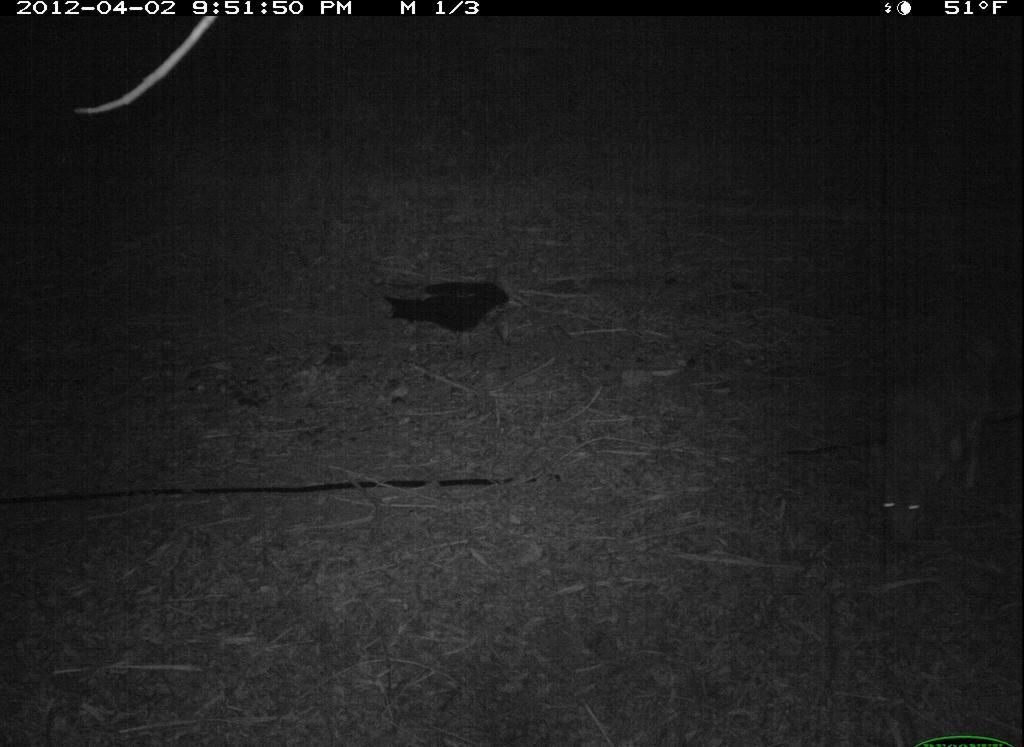coyote: (850, 305, 1003, 559)
